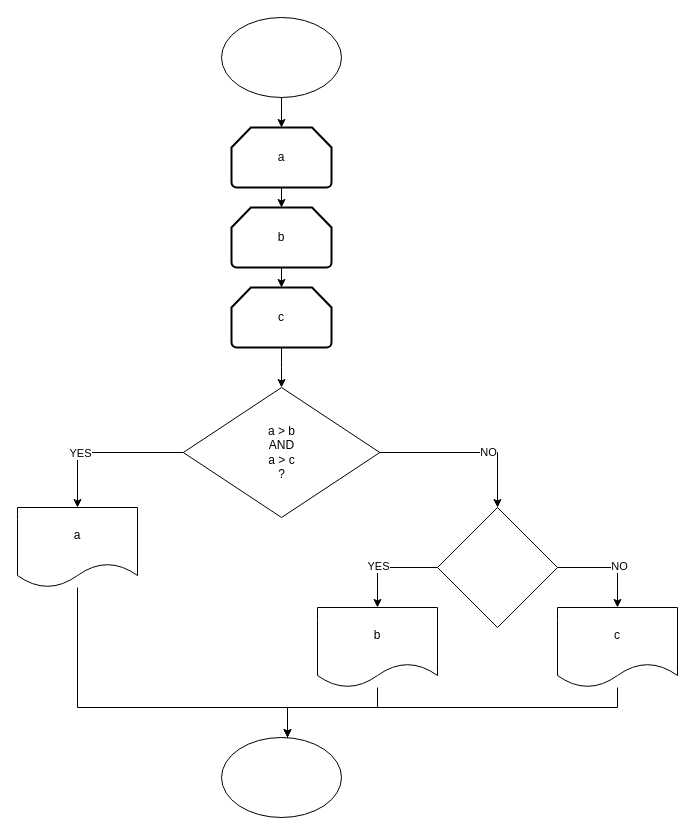
This 695x835 diagram has some shape labels left out. Each missing label, with the centre of its shape:
"b>c ?" goes at [497,567].
"START" goes at [281,57].
"STOP" goes at [281,777].
